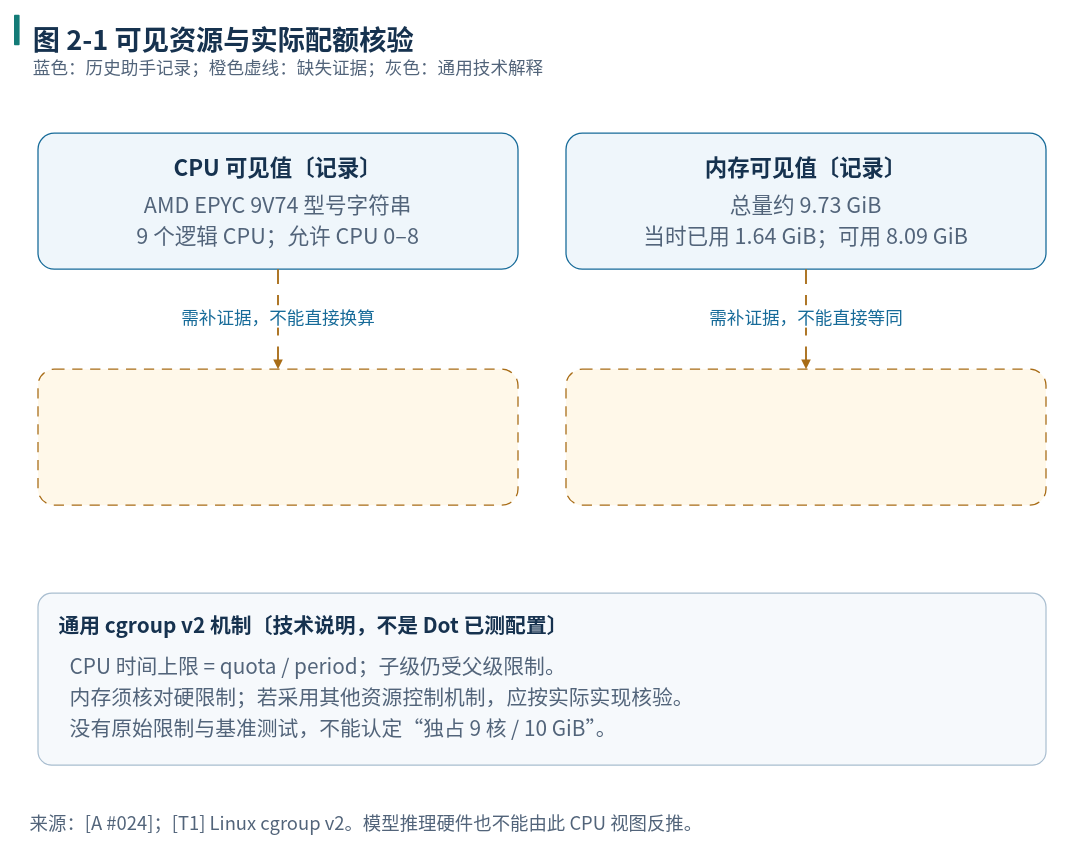
Some shapes in this 1086 by 862 pixel diagram are drawn without their labels. Here are the shapes that lost their labels. From the top down, the centre of each, then its label:
At point (277, 436): "CPU 实际限制〔未确认〕 缺少 cpu.max 与可读父层限制 也未完成独占性与持续性能验证".
At point (805, 436): "内存硬限制〔未确认〕 缺少 memory.max 与可读父层限制 可见总量不自动等于允许使用上限".
